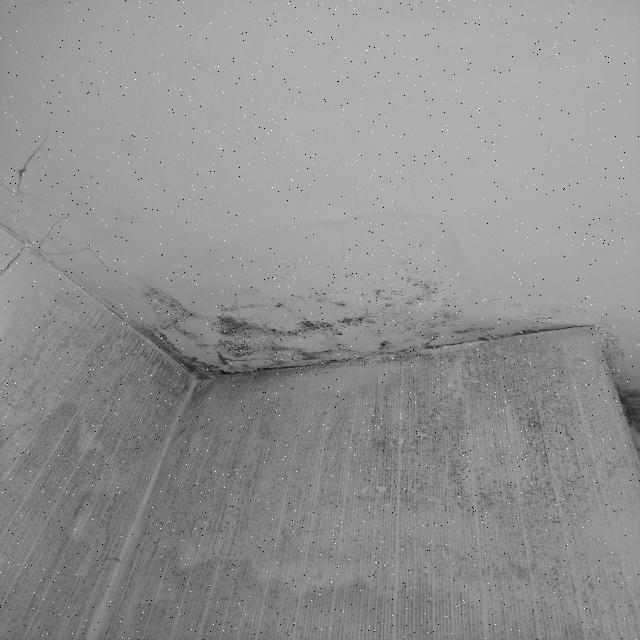stain marks: (62, 384, 478, 639), (100, 223, 476, 392), (473, 306, 631, 640), (0, 402, 62, 638), (6, 283, 102, 392)
